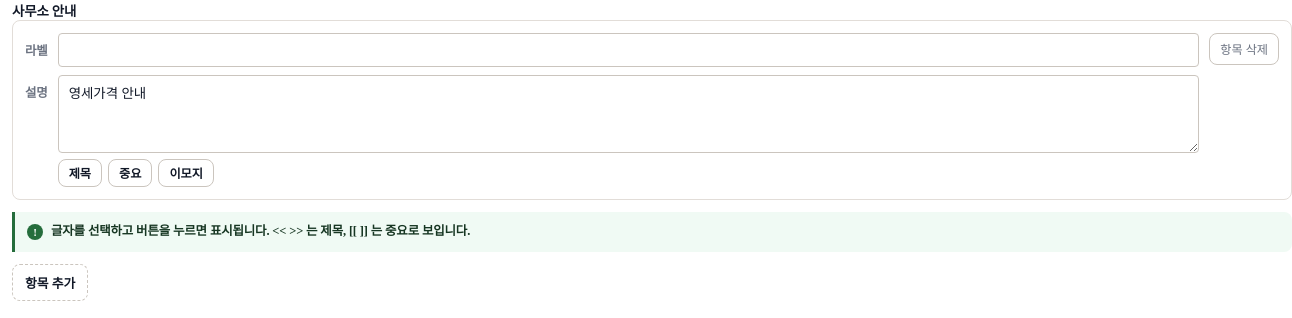
Scenario: InformationEntryFields › wraps the selected description text when the 중요 button is clicked
The width and height of the screenshot is (1292, 318).
Click the button "중요" at {"x": 130, "y": 174}, box [108,160,152,188]
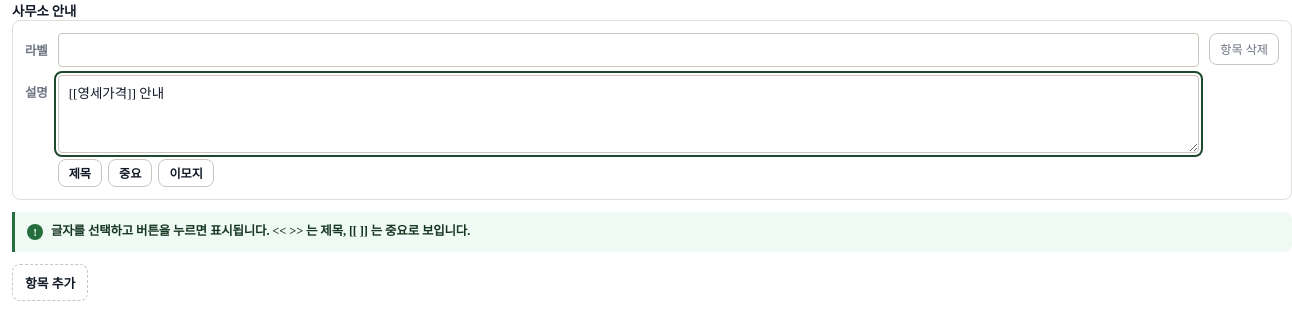
Check: the text box labelled "설명" holds "[ [영세가격]] 안내", box [58,75,1199,154]
